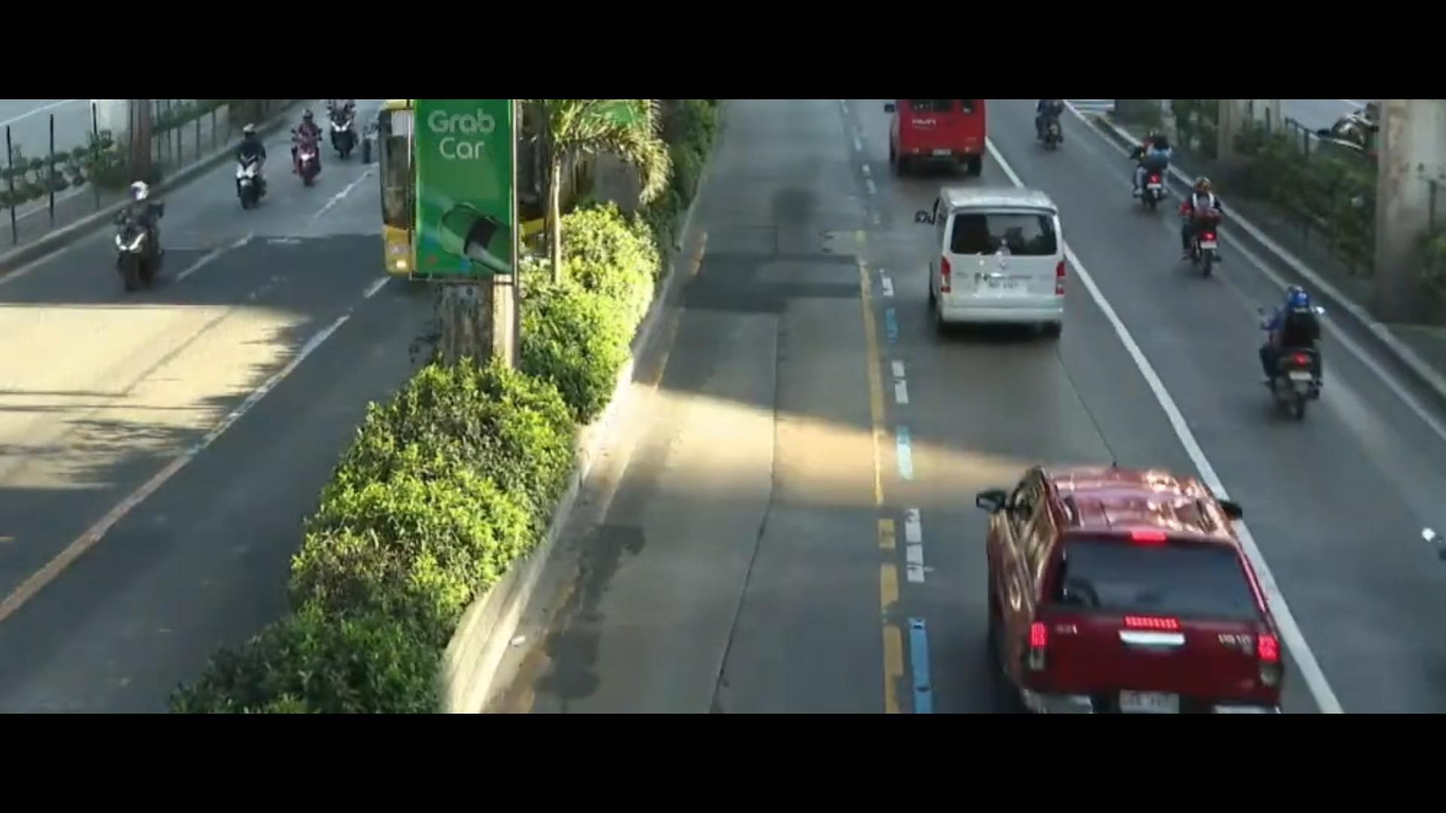Motorcycle: (1254, 273, 1369, 416), (100, 175, 185, 304), (1165, 172, 1247, 285), (263, 104, 336, 209), (216, 115, 275, 238), (1119, 119, 1173, 206), (308, 96, 368, 173), (1028, 91, 1075, 158)
Multicab: (878, 96, 1006, 191)
SUV: (934, 460, 1323, 718)
Van: (896, 168, 1089, 354)
